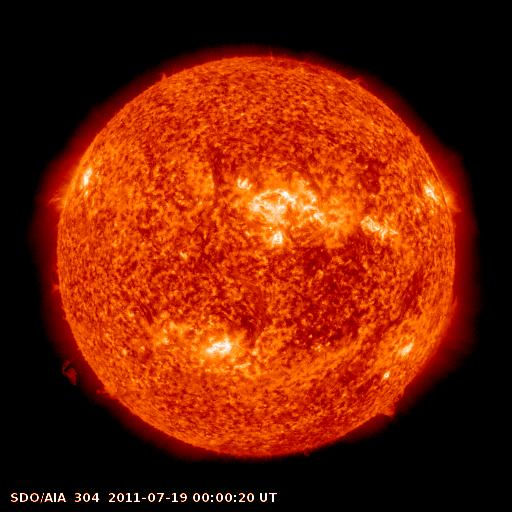prominence: (57, 350, 124, 406), (369, 387, 413, 426)
